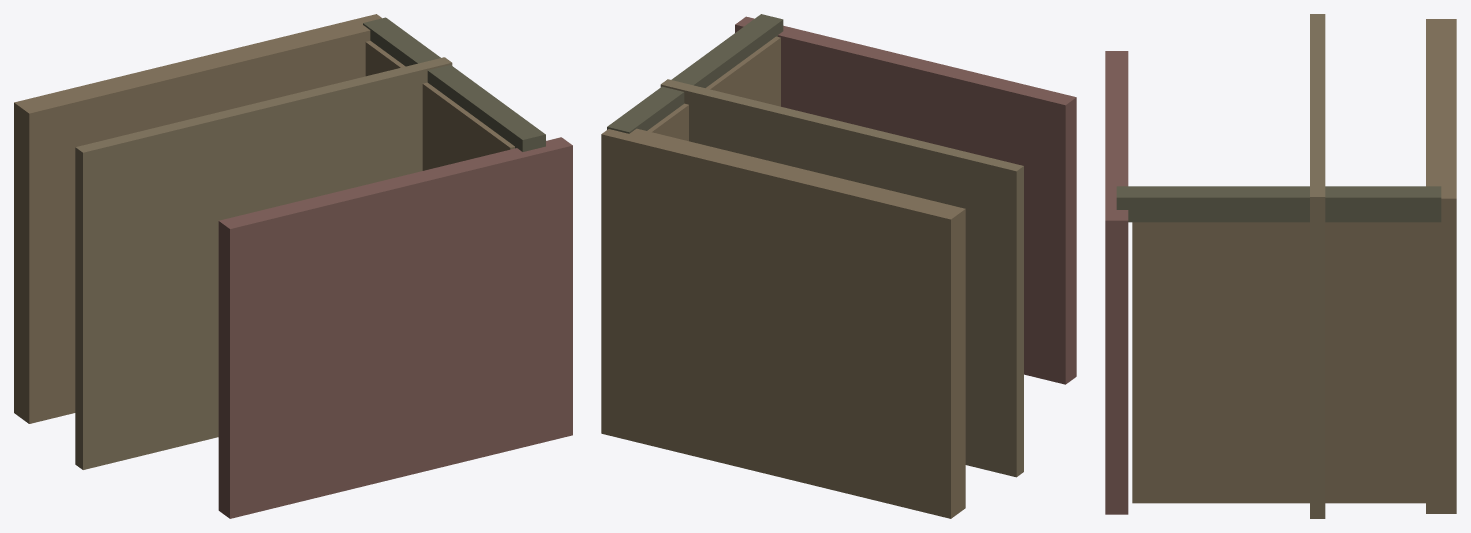
File: crate.glb
The picture shows the model from 3 angles, left to right: view 1: azimuth 30°, elevation 25°; view 2: azimuth 150°, elevation 25°; view 3: azimuth 270°, elevation 25°; orthographic projection. The views are drawn at different scales.
Visible parts, largest first — view 1: crate_lid, crate_strap, crate_bottom, crate_batten, crate_wall; view 2: crate_bottom, crate_lid, crate_strap, crate_batten, crate_wall; view 3: crate_wall, crate_bottom, crate_batten, crate_lid, crate_strap.
Boxes of the visible parts, left/top/right/bottom form: crate_lid: left=218, top=137, right=572, bottom=518; crate_strap: left=75, top=57, right=452, bottom=469; crate_bottom: left=14, top=14, right=381, bottom=423; crate_batten: left=363, top=17, right=545, bottom=151; crate_wall: left=365, top=40, right=514, bottom=170; crate_bottom: left=601, top=128, right=965, bottom=518; crate_lid: left=735, top=16, right=1076, bottom=384; crate_strap: left=660, top=79, right=1023, bottom=477; crate_batten: left=607, top=14, right=783, bottom=133; crate_wall: left=647, top=36, right=780, bottom=141; crate_wall: left=1132, top=222, right=1425, bottom=503; crate_bottom: left=1426, top=19, right=1456, bottom=513; crate_batten: left=1116, top=186, right=1441, bottom=222; crate_lid: left=1105, top=51, right=1128, bottom=514; crate_strap: left=1310, top=14, right=1325, bottom=518.
Bounding box in the file's own units: 0.59 × 0.46 × 0.455.
